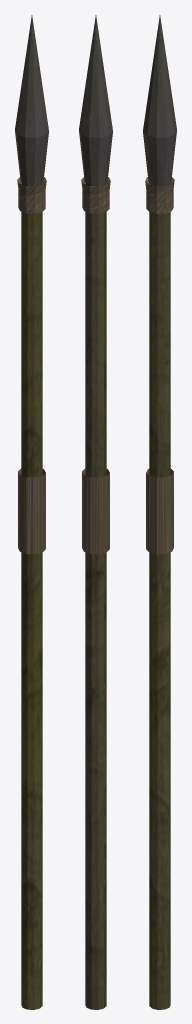
Rendered from Spear.fbx.
3 views of the same model, side by side, from view 1: azimuth 30°, elevation 25°; view 2: azimuth 210°, elevation 25°; view 3: azimuth 330°, elevation 25° (orthographic).
Visible parts, largest first — view 1: pCylinder1; view 2: pCylinder1; view 3: pCylinder1.
Boxes of the visible parts, x1,y1,x2,y2 form: pCylinder1: (15, 15, 48, 1009); pCylinder1: (79, 15, 112, 1009); pCylinder1: (143, 15, 176, 1009).
Bounding box in the file's own units: 0.5355 × 17 × 0.5093.
Materials: 1 (1 with a texture image).
